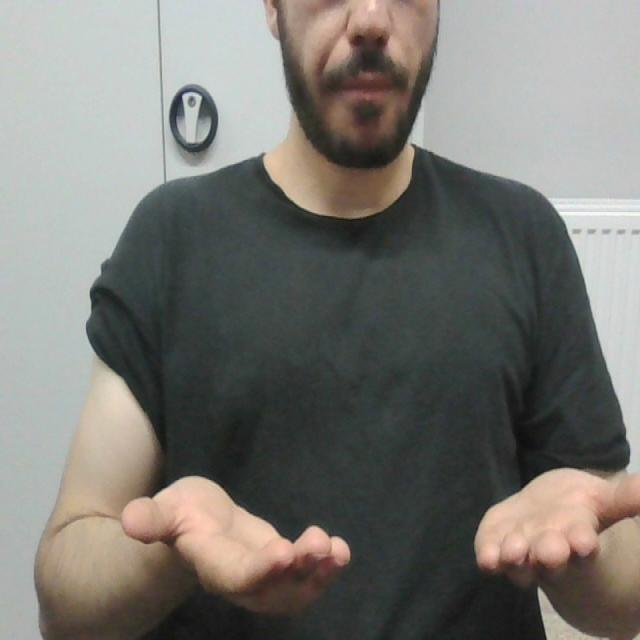Evet: (106, 460, 640, 615)
